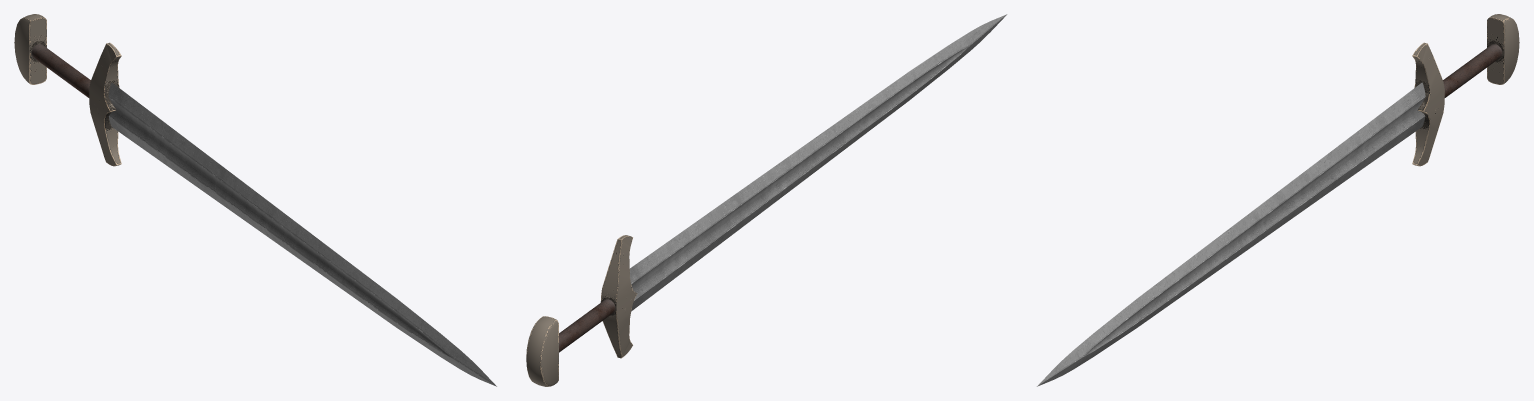
The model's file is G_VikingSword.glb.
3 renders of one model, left to right at view 1: azimuth 30°, elevation 25°; view 2: azimuth 150°, elevation 25°; view 3: azimuth 330°, elevation 25°, orthographic.
Parts seen in each view (by area): view 1: Cylinder.004; view 2: Cylinder.004; view 3: Cylinder.004.
Boxes of the visible parts, bbox=[...] form: Cylinder.004: bbox=[14, 14, 496, 386]; Cylinder.004: bbox=[526, 14, 1007, 386]; Cylinder.004: bbox=[1037, 14, 1519, 386].
Size of the model in its own units: 0.0236 by 0.1517 by 1.1.
Materials: 1 (1 with a texture image).
